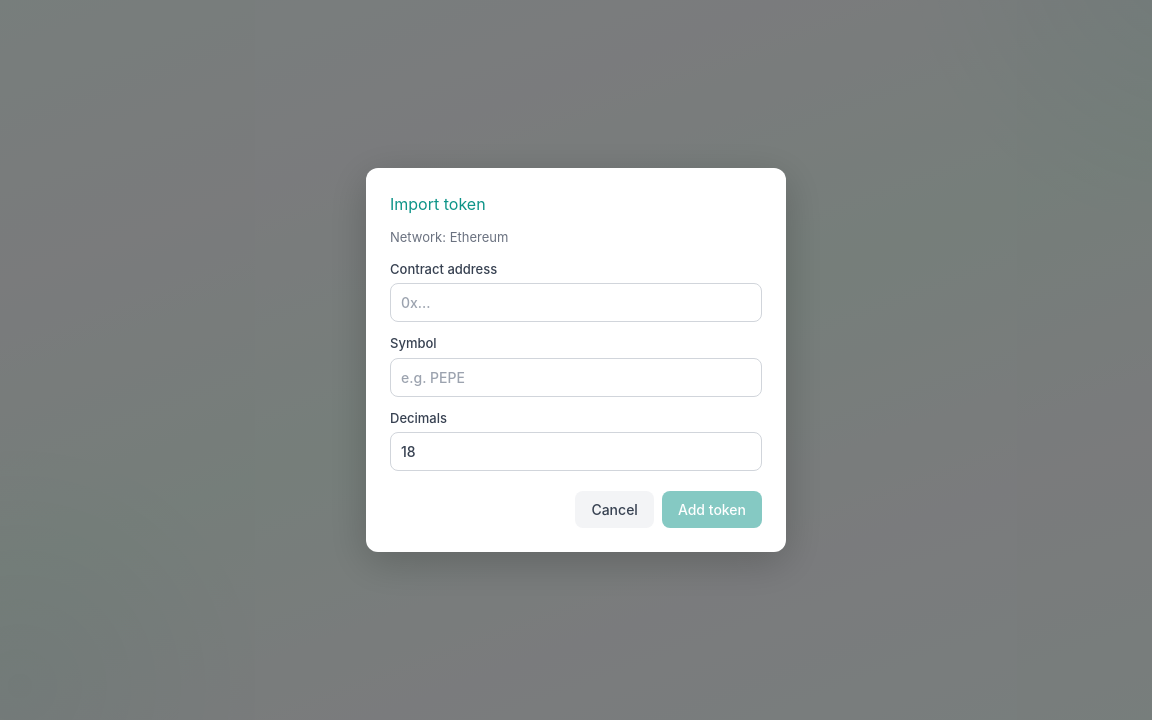
Test: AddTokenDialog › shows the backend error and does NOT close on failure
This screenshot has width=1152, height=720.
Type "0x1f9840a85d5af5bf1d1762f925bdaddc4201f984" into the field with placeholder "0x..." at (576, 302), box [390,283,762,322]
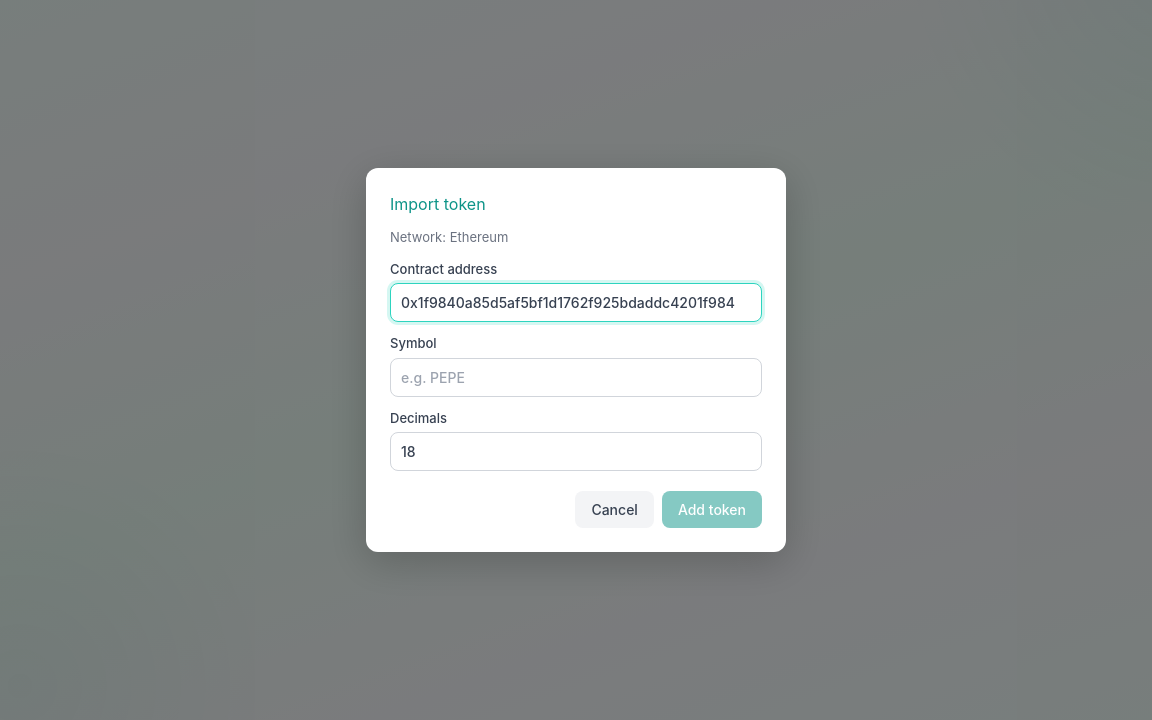
Type "UNI" into the field with placeholder "e.g. PEPE" at (576, 377), box [390,358,762,396]
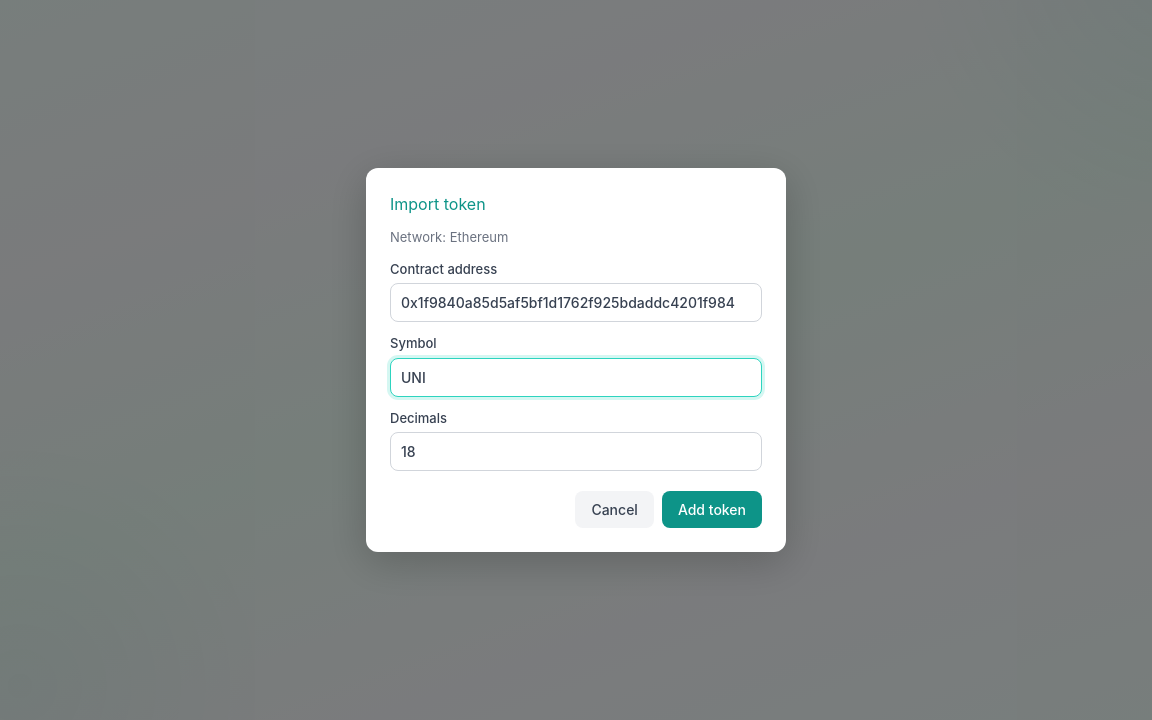
Click the button "Add token" at (712, 510), box [662,491,762,528]
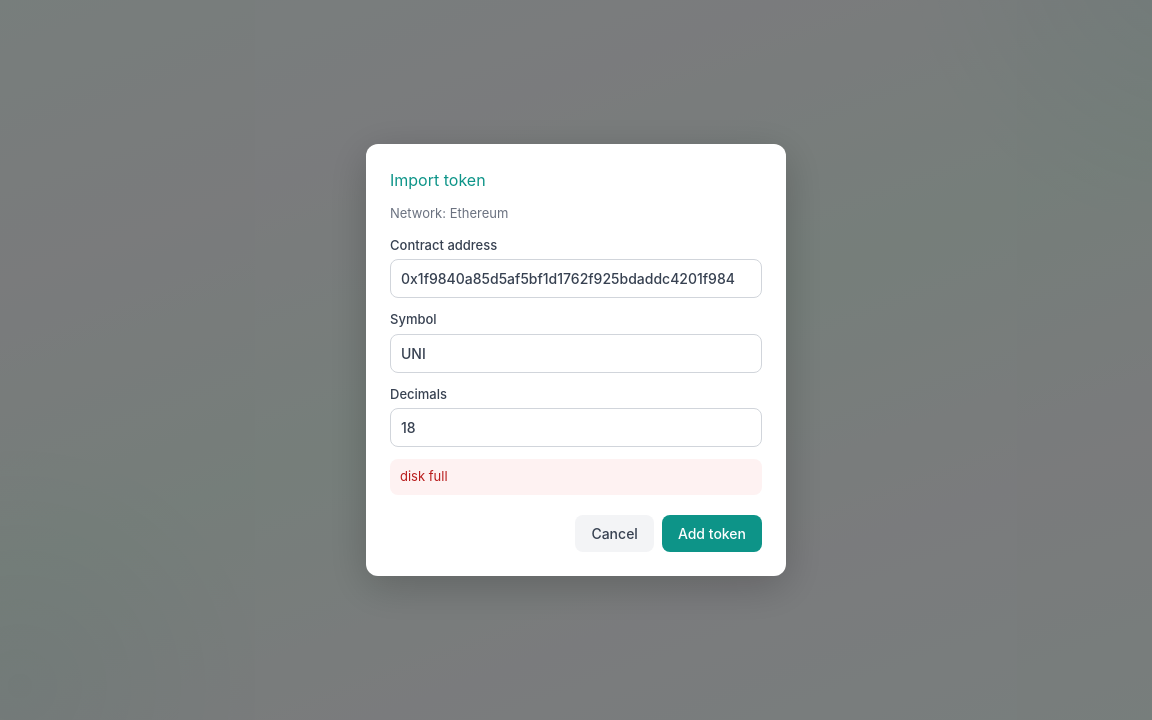
Now the text "disk full" is shown, box [390,459,762,495]
